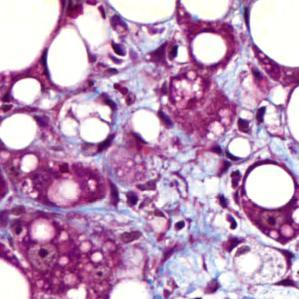steatosis: (245, 162, 298, 209), (1, 113, 39, 150), (191, 29, 226, 65), (80, 114, 109, 147), (13, 75, 44, 102)
